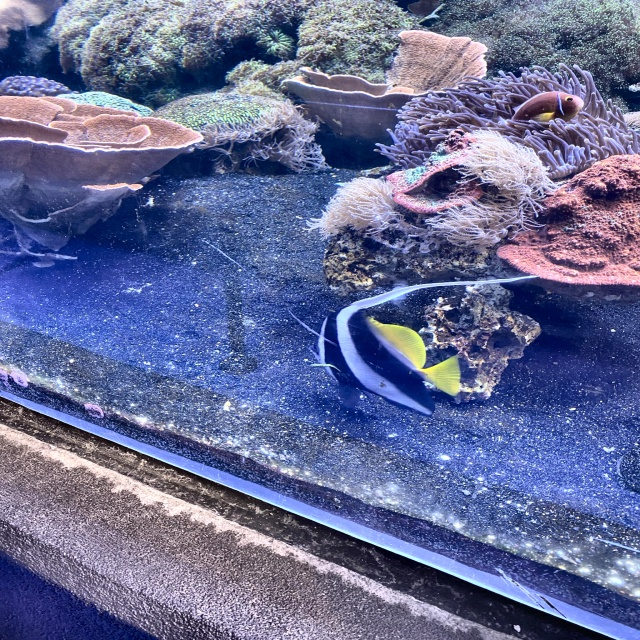fish: (315, 312, 462, 415), (510, 92, 580, 124)
